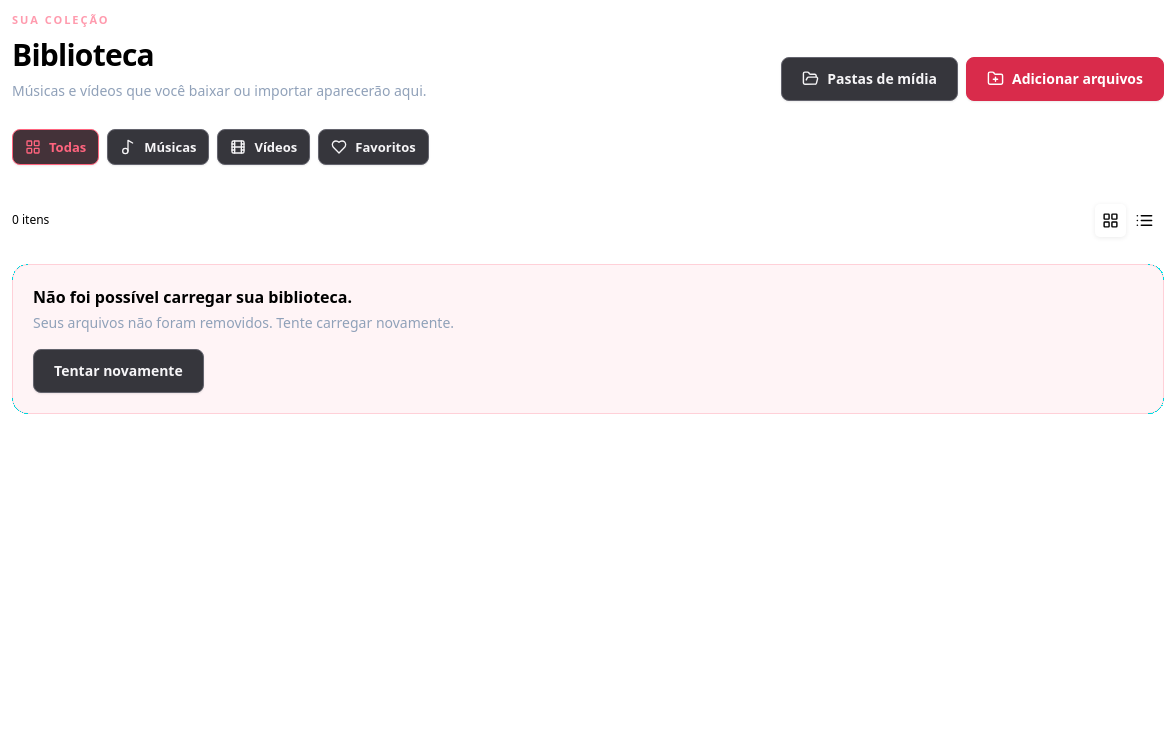
Test: shows a recoverable error instead of an empty collection when loading fails
The image size is (1176, 732).
Check: the text "Não foi possível carregar sua biblioteca." is shown, box x1=33 y1=286 x2=352 y2=308
Check: the text "Sua coleção começa aqui" is not shown
Click the button "Tentar novamente".
click(118, 370)  # box x1=33 y1=348 x2=204 y2=392
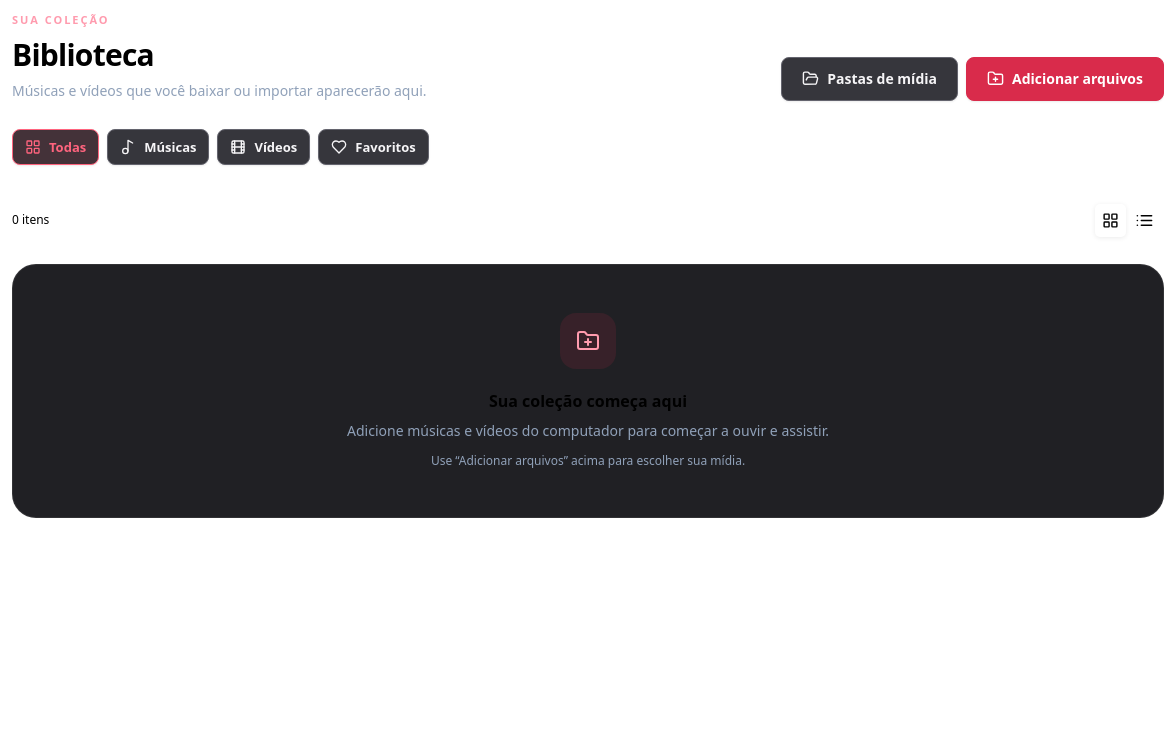
Check: the heading "Sua coleção começa aqui" is shown, box x1=489 y1=390 x2=687 y2=412
